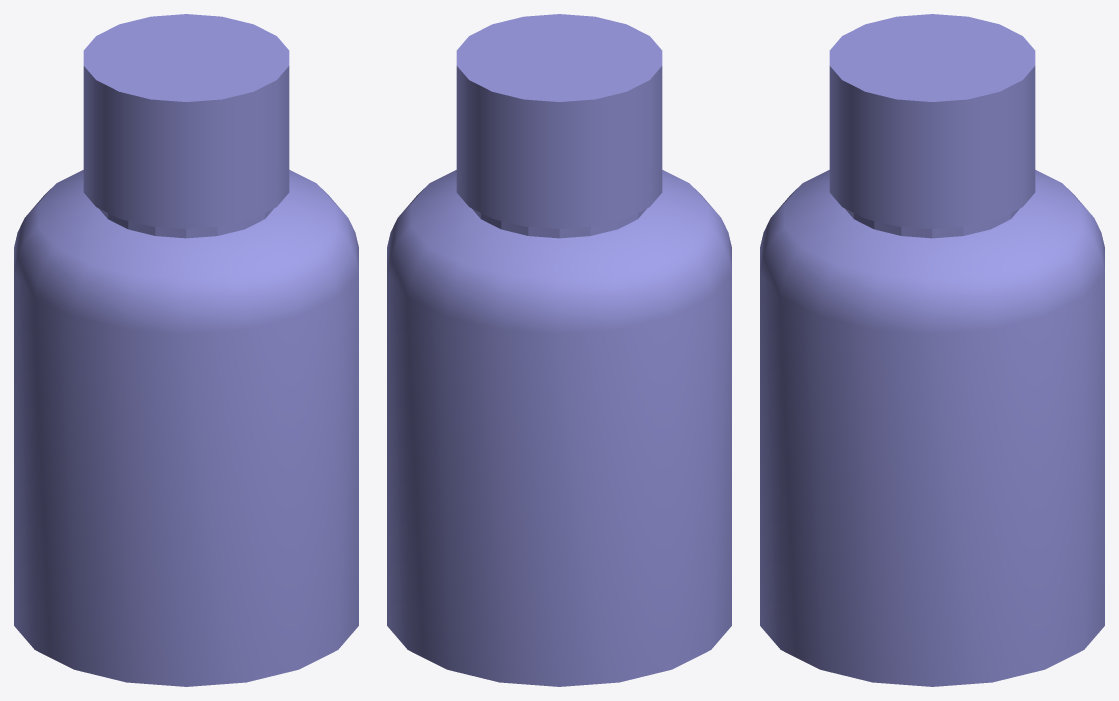
The model's file is BismuthObject.DAE.
3 views of the same model, side by side, from view 1: azimuth 30°, elevation 25°; view 2: azimuth 150°, elevation 25°; view 3: azimuth 270°, elevation 25° (orthographic).
Parts seen in each view (by area): view 1: Cylinder001; view 2: Cylinder001; view 3: Cylinder001.
Part boxes in pixels (x1,y1,x2,y2): Cylinder001: (14, 14, 358, 686); Cylinder001: (387, 14, 731, 686); Cylinder001: (760, 14, 1104, 686).
Bounding box in the file's own units: 3.94 × 3.88 × 6.88.
